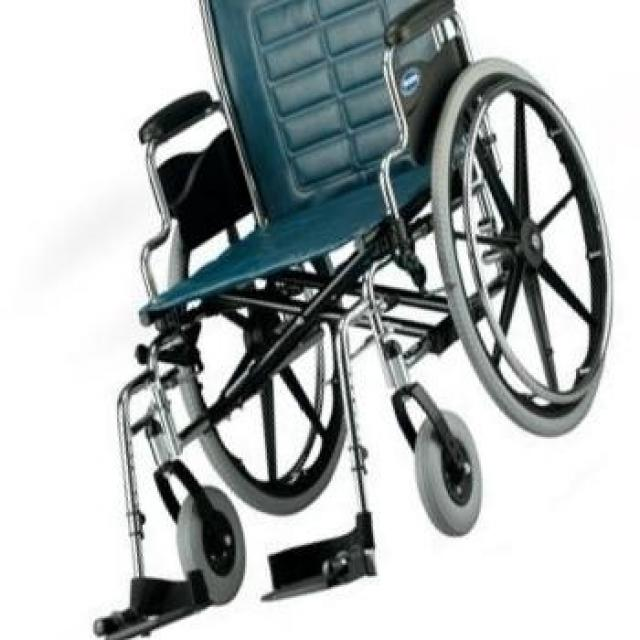wheelchair: (94, 0, 621, 640)
